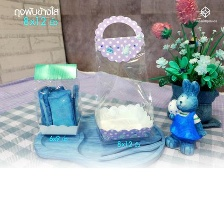snack: (84, 10, 160, 149), (28, 57, 87, 140)
